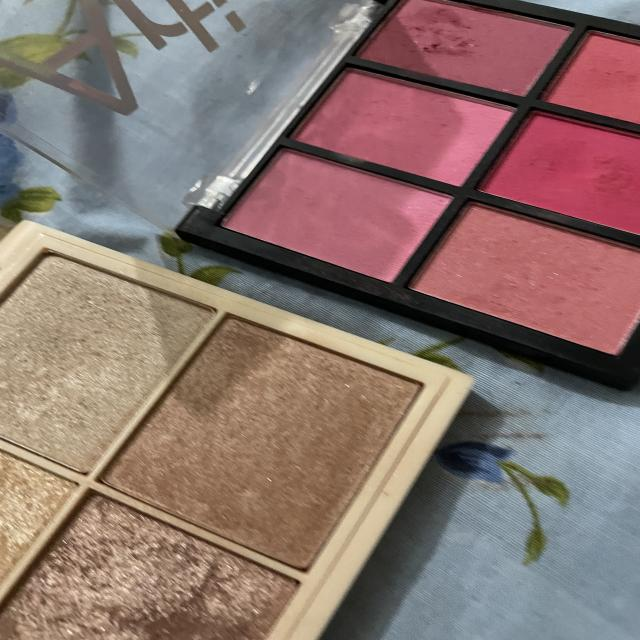blush: (398, 191, 640, 360), (204, 135, 462, 282), (280, 59, 522, 190), (464, 104, 640, 244), (346, 0, 580, 104), (534, 18, 640, 131)
highlighter: (92, 307, 436, 577), (0, 237, 229, 486), (0, 484, 318, 640), (0, 430, 95, 604)
